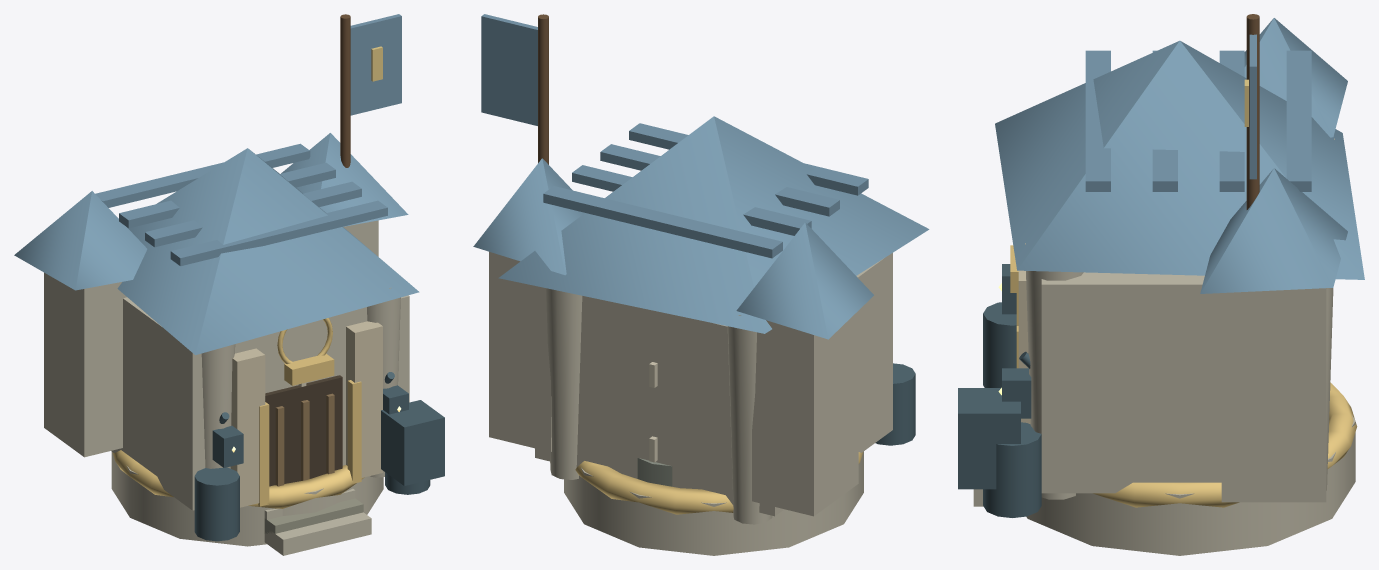
File: tower-barracks-2-base.glb
The picture shows the model from 3 angles, left to right: view 1: azimuth 30°, elevation 25°; view 2: azimuth 150°, elevation 25°; view 3: azimuth 270°, elevation 25°; orthographic projection. The views are drawn at different scales.
Parts seen in each view (by area): view 1: Foundation, barracks-L2-base; view 2: Foundation, barracks-L2-base; view 3: Foundation, barracks-L2-base.
Part boxes in pixels (left/top/right/bottom): Foundation: left=14, top=14, right=444, bottom=555; barracks-L2-base: left=111, top=452, right=383, bottom=546; Foundation: left=473, top=14, right=929, bottom=524; barracks-L2-base: left=564, top=451, right=863, bottom=555; Foundation: left=958, top=14, right=1364, bottom=517; barracks-L2-base: left=1026, top=415, right=1355, bottom=555.
Bounding box in the file's own units: 2.5 × 2.87 × 1.94.
